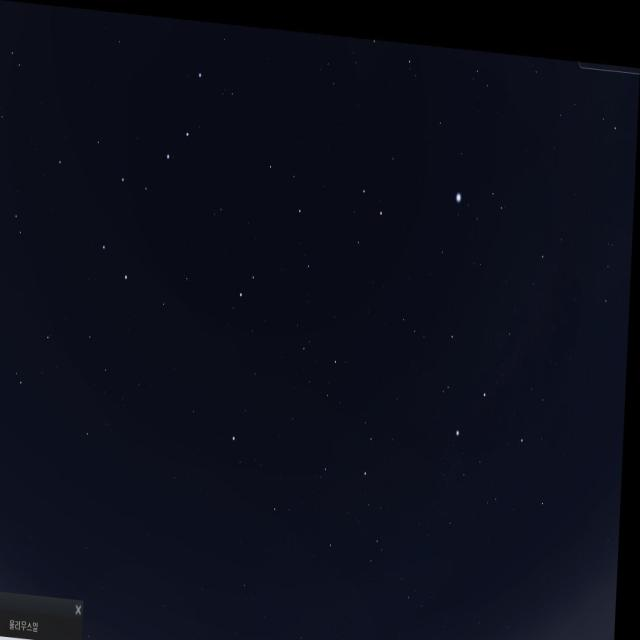cygnus: (442, 228, 563, 446)
lyra: (447, 160, 510, 234)
ursa_major: (100, 46, 211, 285)
